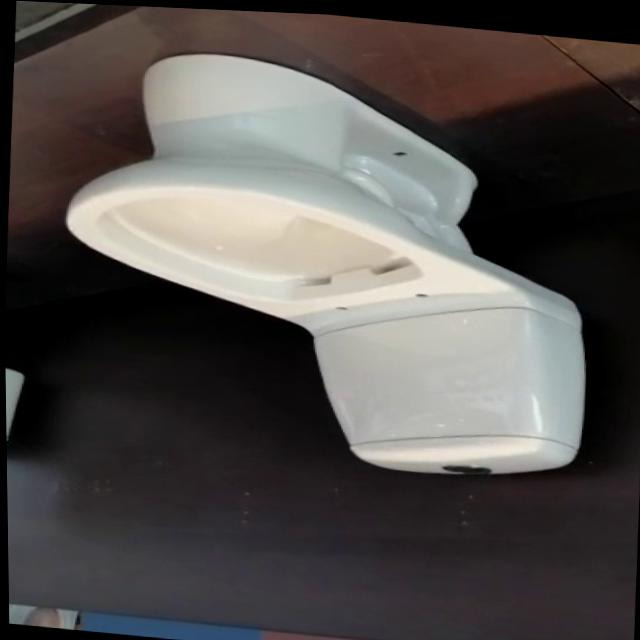toilet: (52, 38, 603, 485)
